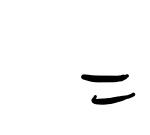eqv: (81, 74, 135, 105)
